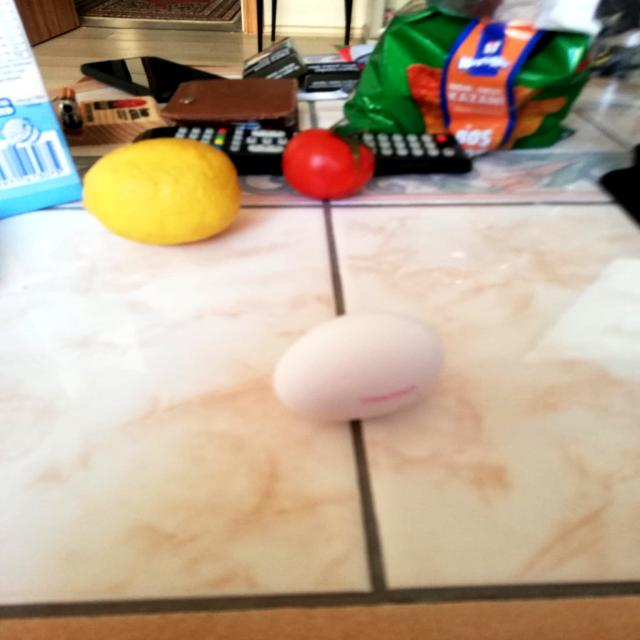egg: (267, 304, 454, 427)
lemon: (61, 132, 257, 256)
tomato: (275, 119, 385, 203)
